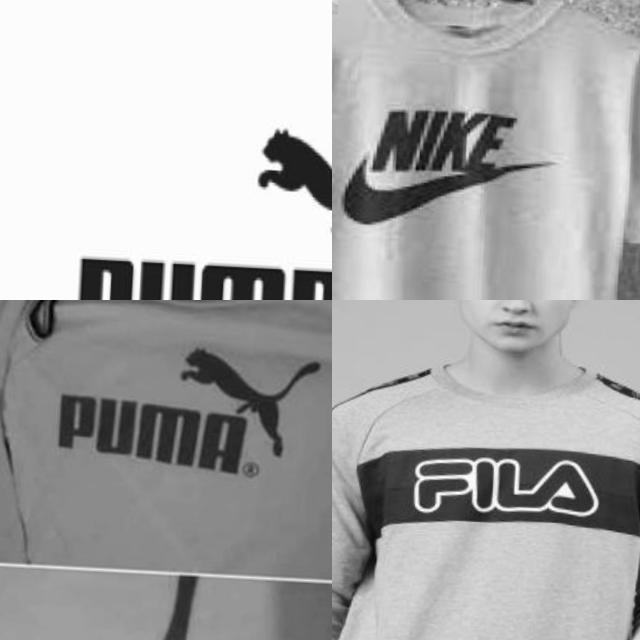FILA_original: (380, 438, 608, 528)
NIKE_original: (332, 81, 589, 253)
PUMA_fake: (36, 86, 332, 300), (0, 556, 332, 640), (168, 330, 332, 470)
